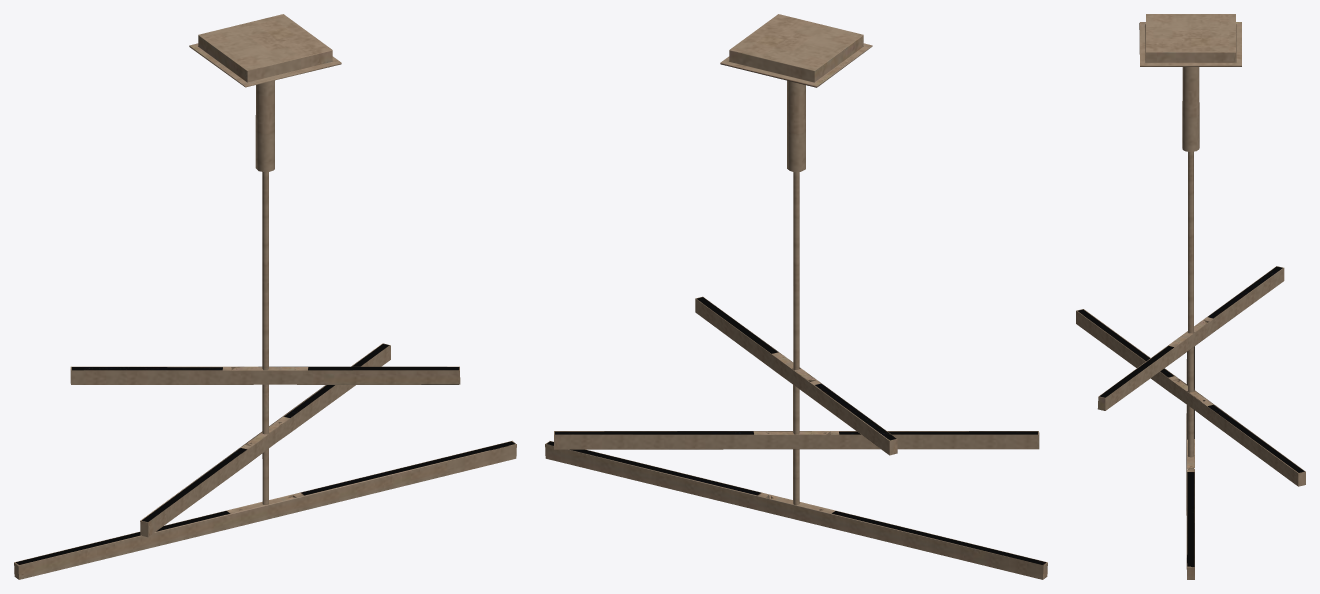
The model's file is LightTop0006.obj.
The picture shows the model from 3 angles, left to right: view 1: azimuth 30°, elevation 25°; view 2: azimuth 150°, elevation 25°; view 3: azimuth 270°, elevation 25°; orthographic projection. The views are drawn at different scales.
Bounding box in the file's own units: 0.9 × 0.821 × 0.392.
1 material, 1 textured.
